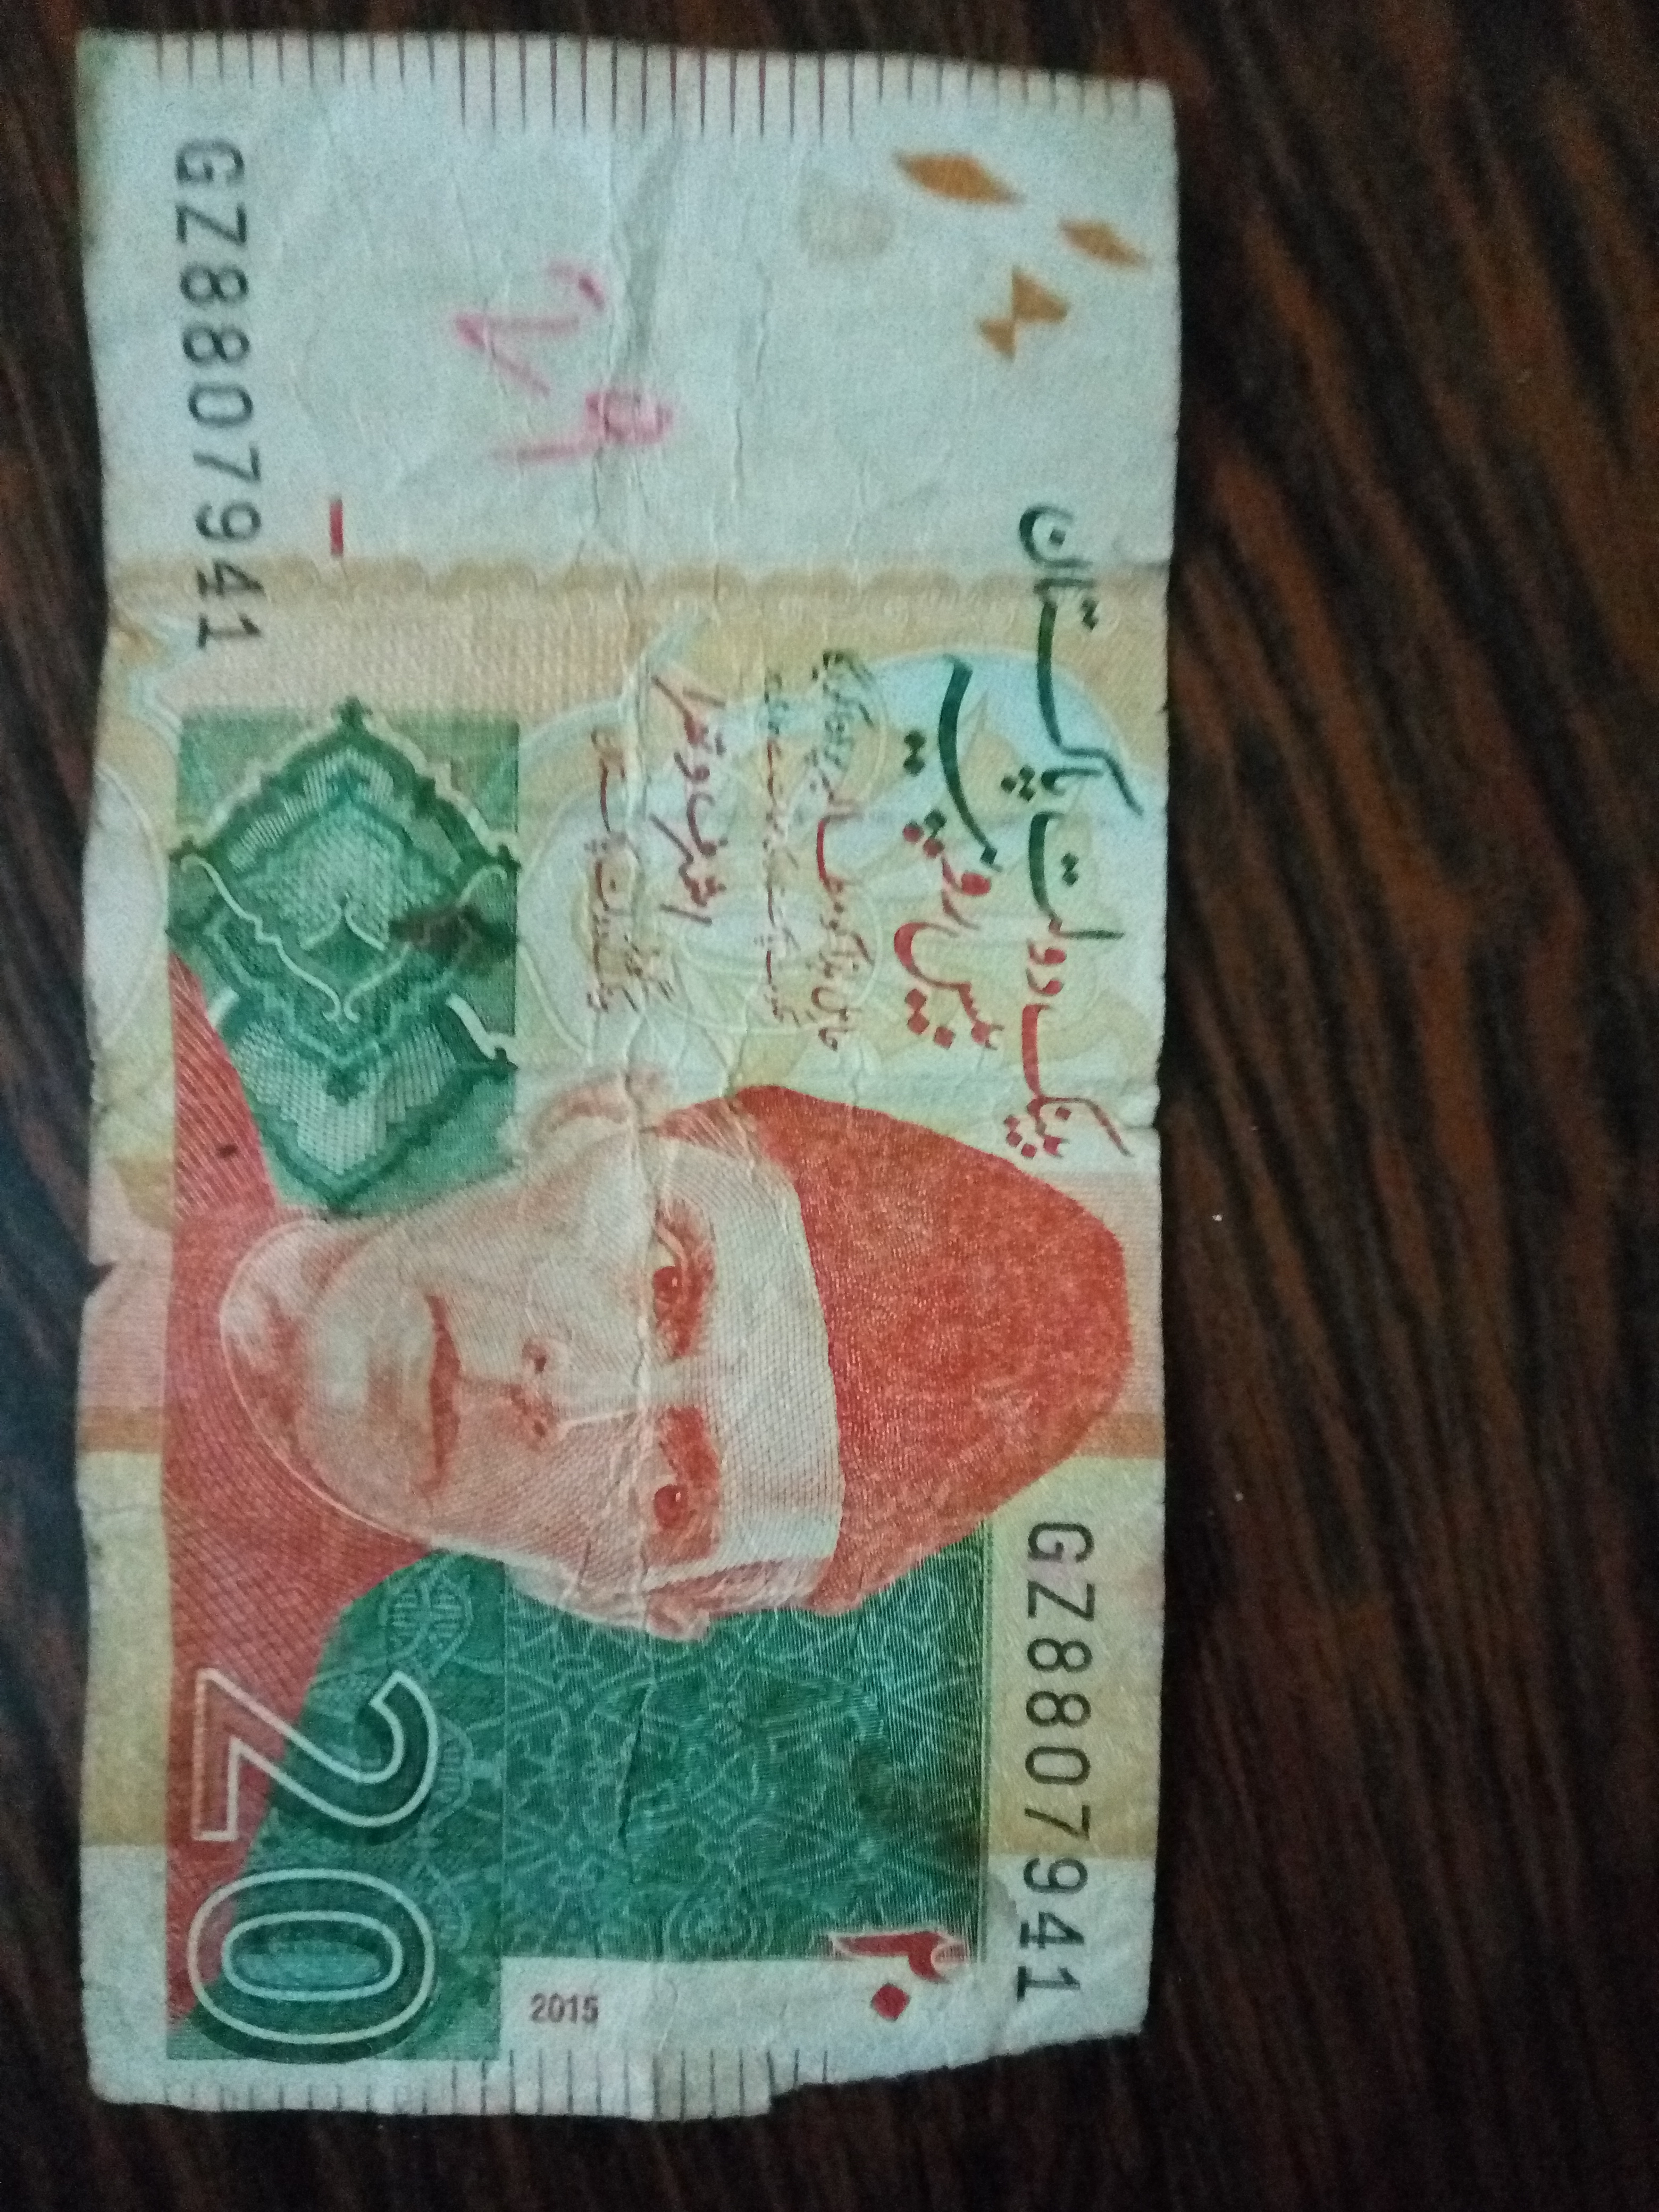20 rupee: (35, 47, 1197, 2141)
